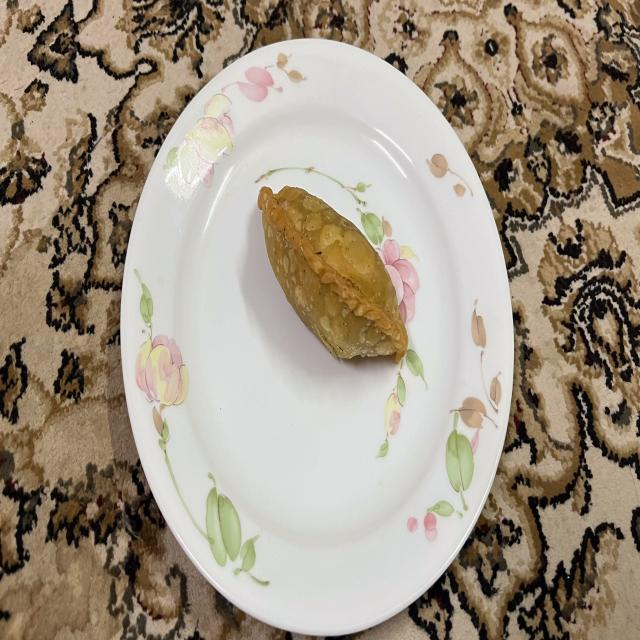karipap: (259, 187, 408, 362)
